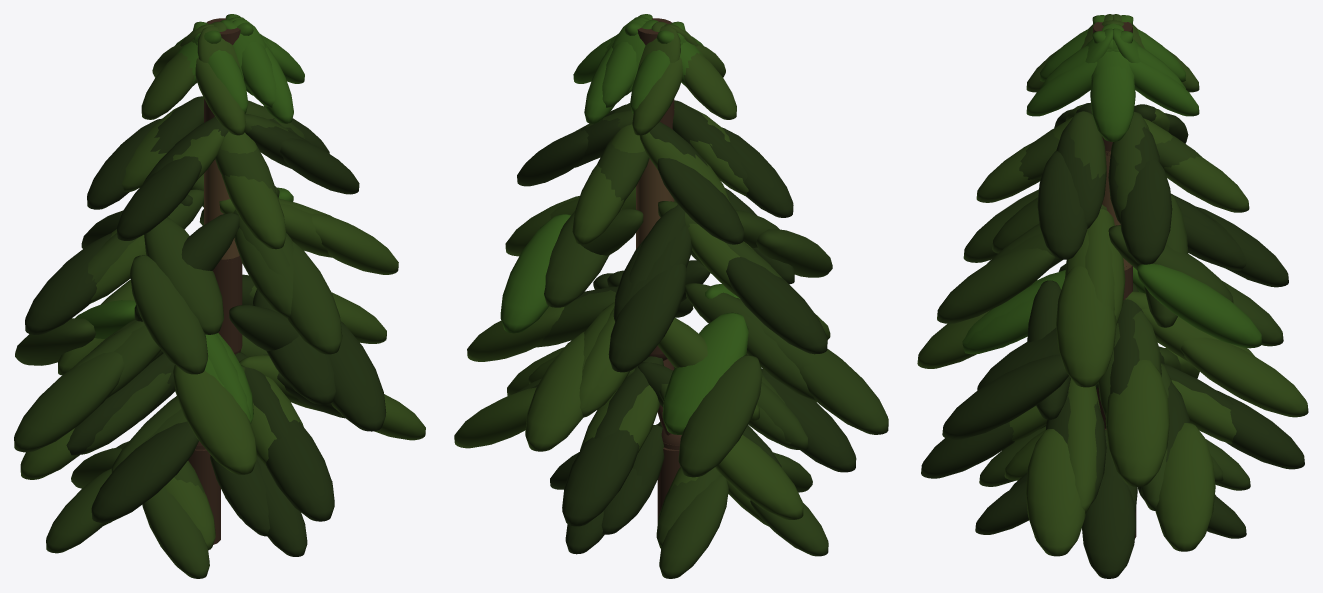
Rendered from CMU3DRMCBushm4.glb.
The picture shows the model from 3 angles, left to right: view 1: azimuth 30°, elevation 25°; view 2: azimuth 150°, elevation 25°; view 3: azimuth 270°, elevation 25°; orthographic projection. The views are drawn at different scales.
Parts seen in each view (by area): view 1: bough tier 3 needle cluster 2-1, bough tier 3 needle cluster 3-1, bough tier 4 needle cluster 2-1, bough tier 2 needle cluster 3-1, bough tier 4 needle cluster 3-1, bough tier 2 needle cluster 3-0, bough tier 3 needle cluster 4-1, bough tier 2 needle cluster 4-1, bough tier 2 needle cluster 2-1, bough tier 1 needle cluster 3-1, bough tier 5 needle cluster 2-1, bough tier 3 needle cluster 4-0 (+51 smaller); view 2: bough tier 3 needle cluster 1-1, bough tier 2 needle cluster 2-1, bough tier 2 needle cluster 1-1, bough tier 4 needle cluster 0-1, bough tier 3 needle cluster 1-0, bough tier 3 needle cluster 0-1, bough tier 3 needle cluster 2-1, bough tier 2 needle cluster 0-1, bough tier 4 needle cluster 1-1, bough tier 5 needle cluster 0-1, bough tier 1 needle cluster 2-1, bough tier 4 needle cluster 2-1 (+50 smaller); view 3: bough tier 3 needle cluster 5-1, bough tier 4 needle cluster 5-1, bough tier 4 needle cluster 4-1, bough tier 2 needle cluster 5-1, bough tier 3 needle cluster 4-1, bough tier 3 needle cluster 0-1, bough tier 2 needle cluster 0-1, bough tier 2 needle cluster 4-1, bough tier 5 needle cluster 4-1, bough tier 1 needle cluster 0-1, bough tier 1 needle cluster 5-1, bough tier 4 short needle twig 4 (+48 smaller).
Boxes of the visible parts, box(x1,y1,x2,y2) form: bough tier 3 needle cluster 2-1: box(14, 351, 124, 452); bough tier 3 needle cluster 3-1: box(173, 365, 256, 474); bough tier 4 needle cluster 2-1: box(91, 421, 198, 522); bough tier 2 needle cluster 3-1: box(130, 255, 207, 374); bough tier 4 needle cluster 3-1: box(266, 420, 334, 521); bough tier 2 needle cluster 3-0: box(144, 217, 223, 334); bough tier 3 needle cluster 4-1: box(329, 321, 386, 431); bough tier 2 needle cluster 4-1: box(287, 241, 342, 354); bough tier 2 needle cluster 2-1: box(25, 233, 111, 334); bough tier 1 needle cluster 3-1: box(116, 156, 201, 240); bough tier 5 needle cluster 2-1: box(142, 487, 209, 578); bough tier 3 needle cluster 4-0: box(253, 289, 335, 404); bough tier 3 needle cluster 1-1: box(678, 355, 762, 477); bough tier 2 needle cluster 2-1: box(726, 257, 827, 354); bough tier 2 needle cluster 1-1: box(608, 263, 686, 372); bough tier 4 needle cluster 0-1: box(562, 429, 639, 526); bough tier 3 needle cluster 1-0: box(662, 312, 748, 434); bough tier 3 needle cluster 0-1: box(525, 331, 584, 451); bough tier 3 needle cluster 2-1: box(799, 349, 888, 434); bough tier 2 needle cluster 0-1: box(500, 214, 571, 333); bough tier 4 needle cluster 1-1: box(715, 435, 803, 519); bough tier 5 needle cluster 0-1: box(659, 476, 728, 578); bough tier 1 needle cluster 2-1: box(657, 158, 743, 244); bough tier 4 needle cluster 2-1: box(761, 368, 856, 472); bough tier 3 needle cluster 5-1: box(1105, 360, 1169, 486); bough tier 4 needle cluster 5-1: box(1155, 422, 1215, 551); bough tier 4 needle cluster 4-1: box(1025, 429, 1085, 556); bough tier 2 needle cluster 5-1: box(1056, 266, 1116, 387); bough tier 3 needle cluster 4-1: box(942, 355, 1068, 439); bough tier 3 needle cluster 0-1: box(1180, 337, 1308, 417); bough tier 2 needle cluster 0-1: box(1137, 264, 1262, 348); bough tier 2 needle cluster 4-1: box(937, 248, 1054, 323); bough tier 5 needle cluster 4-1: box(1082, 475, 1136, 578); bough tier 1 needle cluster 0-1: box(1120, 158, 1172, 264); bough tier 1 needle cluster 5-1: box(1037, 150, 1087, 259); bough tier 4 short needle twig 4: box(1067, 378, 1100, 513).
Bounding box in the file's own units: 0.5428 × 0.6719 × 0.4531.
